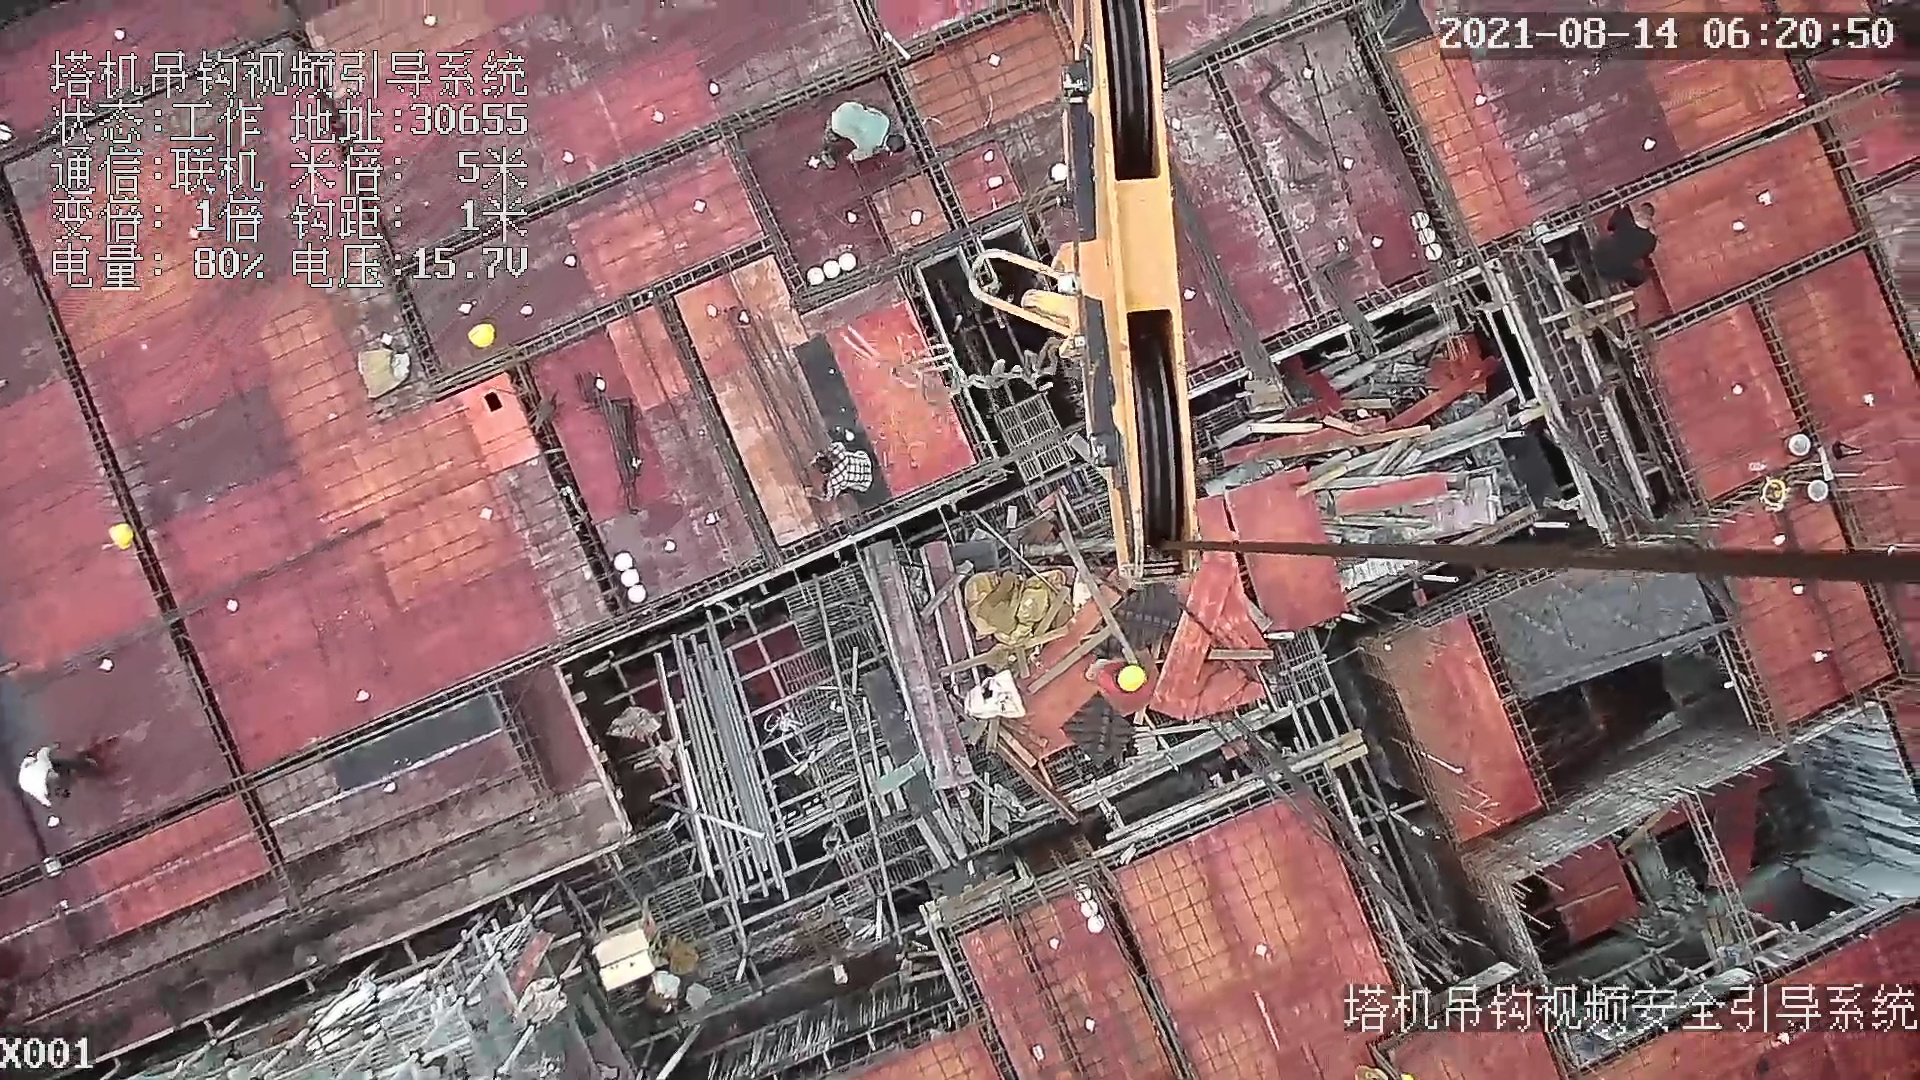helmet: (108, 522, 134, 550), (1117, 665, 1145, 691), (467, 323, 495, 348)
person: (814, 103, 913, 178), (5, 740, 108, 808), (1599, 190, 1663, 287), (792, 435, 879, 504), (1091, 651, 1154, 715)
